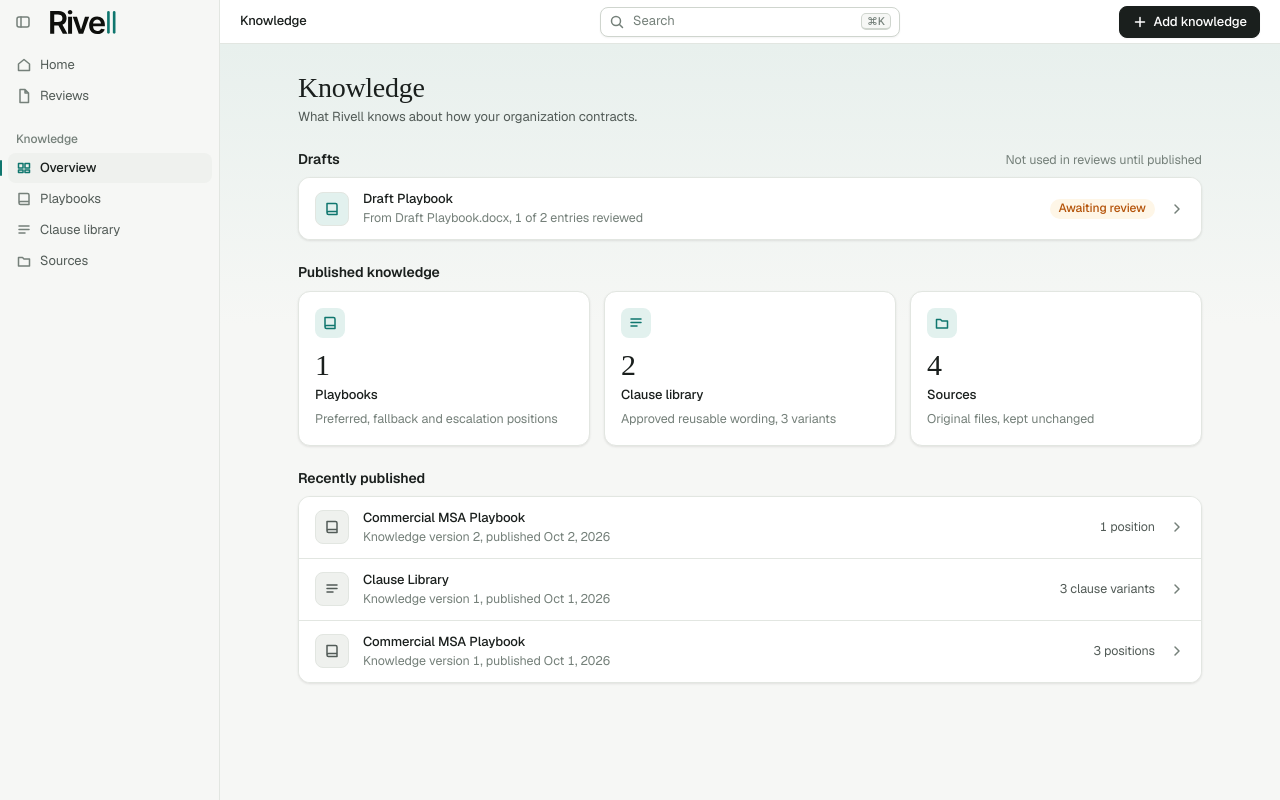
Knowledge overview › opens Add knowledge on the same page, as a dialog, from one header action
Expected: the heading "Recently published" is shown, [298,468,425,488]
Click the link "Add knowledge" at (1189, 22), box [1118,6,1260,38]
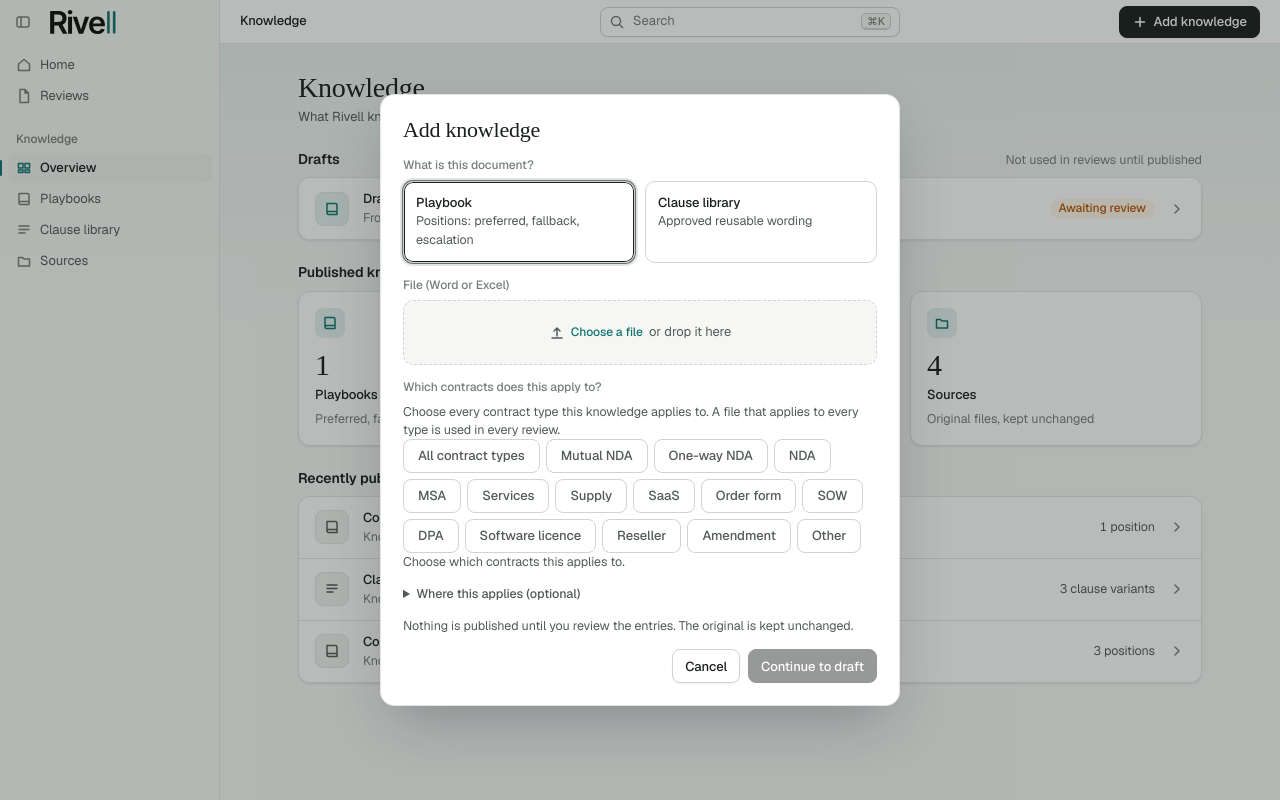
Expected: the heading "Recently published" is shown, [298,468,425,488]
Now the dialog "Add knowledge" is shown, box [380,94,900,706]
